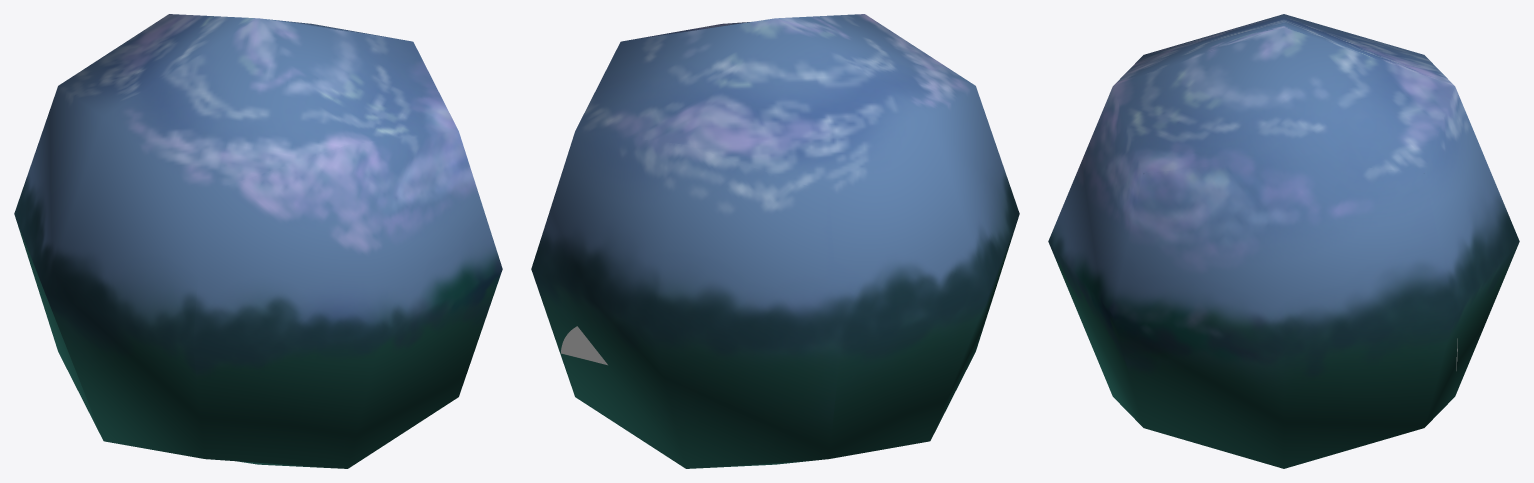
File: loca3ZAEBALASUKA.fbx
3 renders of one model, left to right at view 1: azimuth 30°, elevation 25°; view 2: azimuth 150°, elevation 25°; view 3: azimuth 270°, elevation 25°, orthographic. The views are drawn at different scales.
Visible parts, largest first — view 1: SkyBox02; view 2: SkyBox02, Холм_Фейк_зад17.027; view 3: SkyBox02.
Part boxes in pixels (x1,y1,x2,y2): SkyBox02: (14, 14, 502, 468); SkyBox02: (531, 14, 1019, 468); Холм_Фейк_зад17.027: (561, 326, 607, 365); SkyBox02: (1048, 14, 1519, 468).
Bounding box in the file's own units: 44712 × 44712 × 44712.
Materials: 19 (5 with a texture image).
